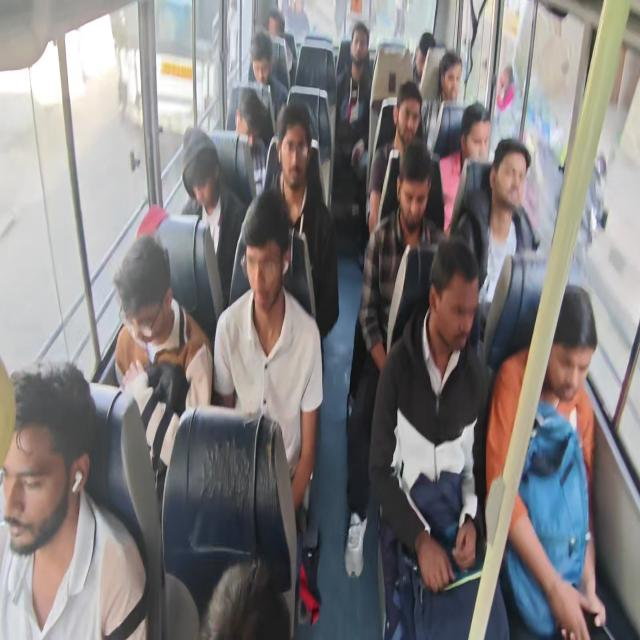person: (368, 237, 510, 638), (344, 138, 446, 578), (485, 283, 607, 639), (0, 359, 149, 639), (212, 188, 324, 523), (113, 233, 213, 502), (230, 103, 339, 340), (453, 137, 539, 349), (181, 126, 247, 309), (367, 80, 445, 234), (198, 556, 292, 639), (438, 102, 491, 232), (335, 22, 372, 168), (234, 87, 271, 198), (424, 50, 463, 149), (247, 29, 288, 123), (265, 8, 296, 86), (412, 31, 436, 87), (438, 50, 462, 104)
